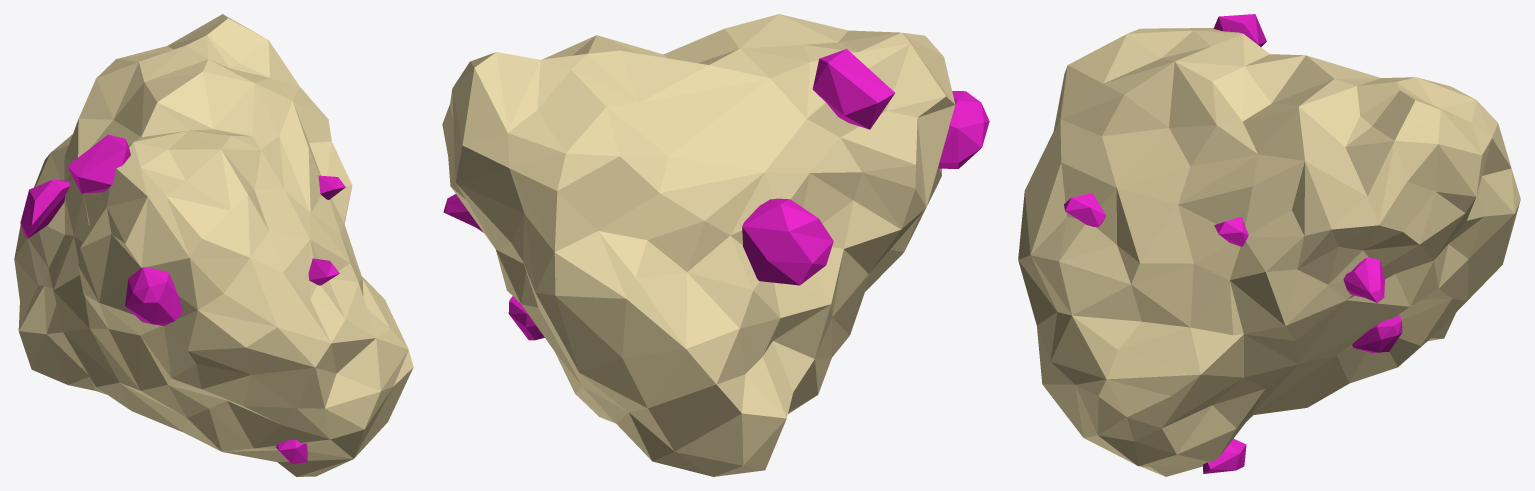
The model's file is CrystalOre (25).fbx.
3 views of the same model, side by side, from view 1: azimuth 30°, elevation 25°; view 2: azimuth 150°, elevation 25°; view 3: azimuth 270°, elevation 25° (orthographic). The views are drawn at different scales.
Visible parts, largest first — view 1: Asteroid245; view 2: Asteroid245; view 3: Asteroid245.
Boxes of the visible parts, x1,y1,x2,y2 form: Asteroid245: (14,14,413,476); Asteroid245: (442,14,989,476); Asteroid245: (1018,14,1520,476).
Size of the model in its own units: 382 by 426 by 494.
